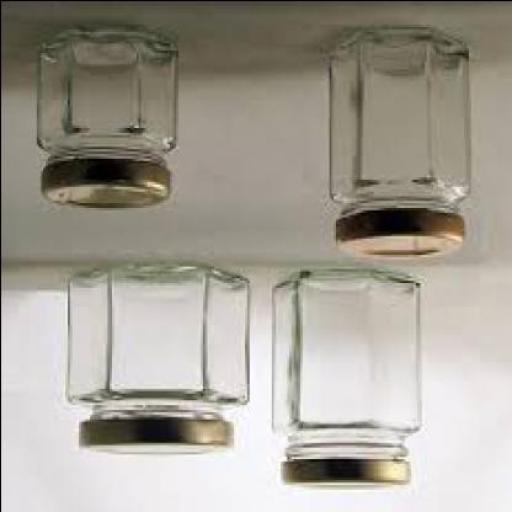glass: (62, 263, 246, 420), (266, 272, 416, 463), (326, 23, 468, 219), (32, 28, 176, 169)
metal: (333, 210, 463, 264), (37, 160, 169, 209), (71, 416, 228, 455), (278, 460, 406, 491)
